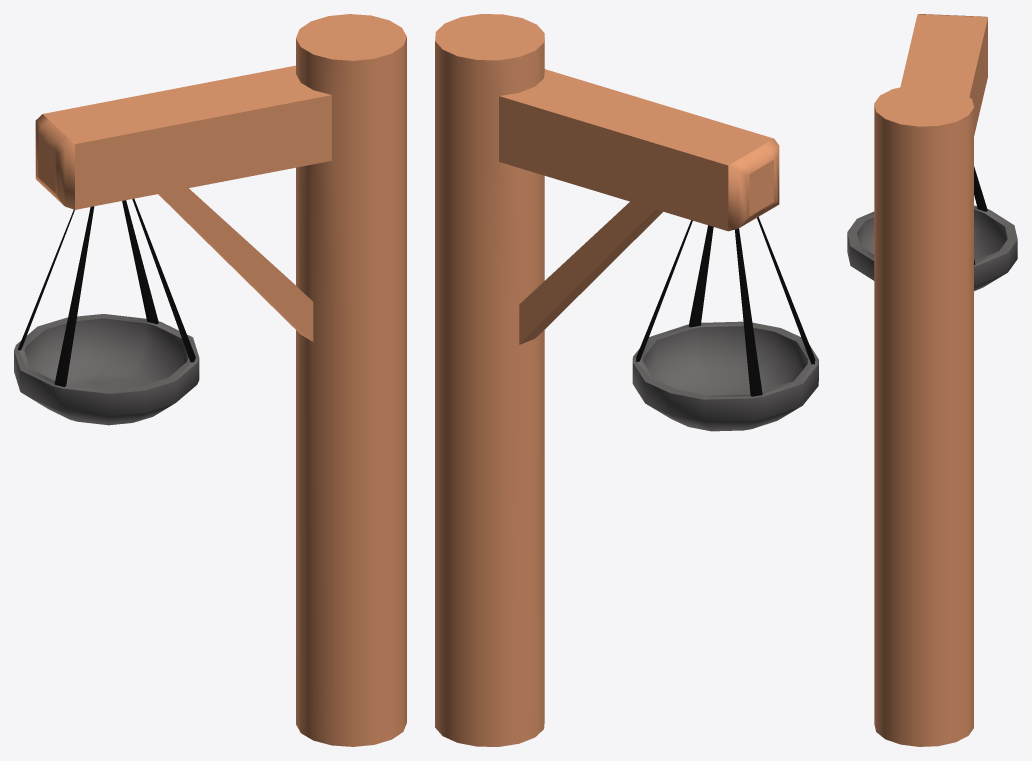
The model's file is poste.fbx.
3 views of the same model, side by side, from view 1: azimuth 30°, elevation 25°; view 2: azimuth 150°, elevation 25°; view 3: azimuth 270°, elevation 25° (orthographic). The views are drawn at different scales.
Visible parts, largest first — view 1: Poste, base; view 2: Poste, base; view 3: Poste, base.
Boxes of the visible parts, <box> form: Poste: <box>35,14,406,746</box>; base: <box>14,198,199,425</box>; Poste: <box>435,14,779,746</box>; base: <box>632,217,818,431</box>; Poste: <box>874,14,987,746</box>; base: <box>847,166,1017,291</box>.
Bounding box in the file's own units: 871 × 1544 × 385.
